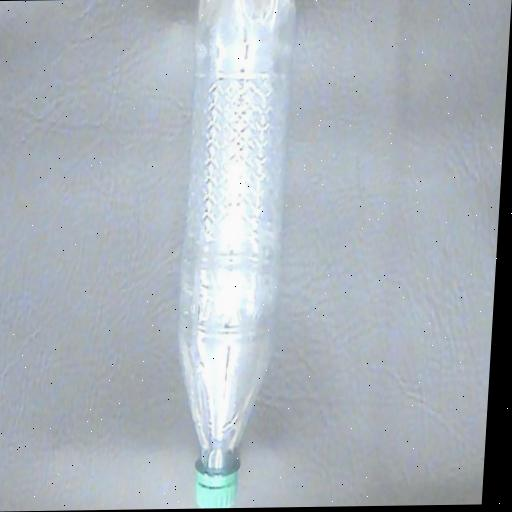bottle: (137, 0, 307, 510)
